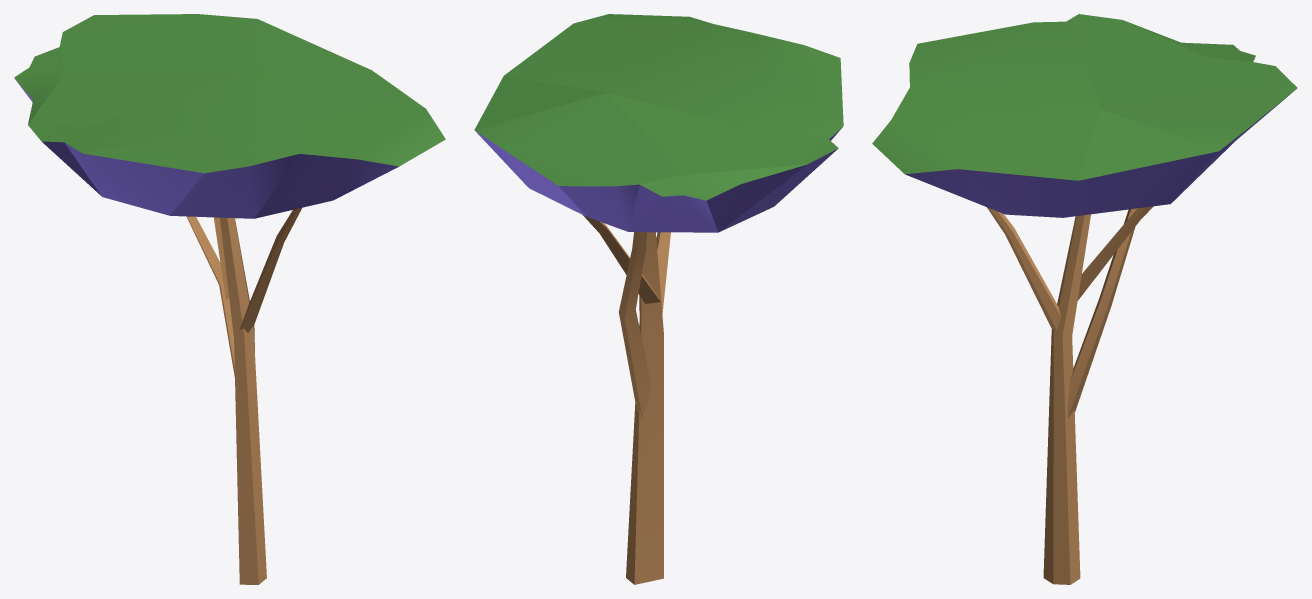
File: tree_B_canopy_B_solo_LOD2.fbx
The picture shows the model from 3 angles, left to right: view 1: azimuth 30°, elevation 25°; view 2: azimuth 150°, elevation 25°; view 3: azimuth 270°, elevation 25°; orthographic projection. The views are drawn at different scales.
Visible parts, largest first — view 1: tree_B_canopy_B, tree_B_canopy_B_trunks_A, tree_B_canopy_B_trunks_B, tree_B_canopy_B_trunks_D; view 2: tree_B_canopy_B, tree_B_canopy_B_trunks_A, tree_B_canopy_B_trunks_D, tree_B_canopy_B_trunk_C, tree_B_canopy_B_trunks_B; view 3: tree_B_canopy_B, tree_B_canopy_B_trunks_A, tree_B_canopy_B_trunks_D, tree_B_canopy_B_trunks_B, tree_B_canopy_B_trunk_C.
Part boxes in pixels (x1,y1,x2,y2): tree_B_canopy_B: (14, 14, 445, 218); tree_B_canopy_B_trunks_A: (220, 217, 266, 584); tree_B_canopy_B_trunks_B: (239, 208, 301, 332); tree_B_canopy_B_trunks_D: (186, 216, 234, 377); tree_B_canopy_B: (474, 14, 843, 232); tree_B_canopy_B_trunks_A: (626, 232, 663, 584); tree_B_canopy_B_trunks_D: (618, 232, 651, 418); tree_B_canopy_B_trunk_C: (583, 215, 660, 303); tree_B_canopy_B_trunks_B: (656, 232, 670, 314); tree_B_canopy_B: (872, 14, 1297, 217); tree_B_canopy_B_trunks_A: (1043, 214, 1090, 584); tree_B_canopy_B_trunks_D: (1067, 208, 1137, 417); tree_B_canopy_B_trunks_B: (987, 207, 1060, 330); tree_B_canopy_B_trunk_C: (1077, 206, 1153, 300).
Size of the model in its own units: 380 by 539 by 433.
